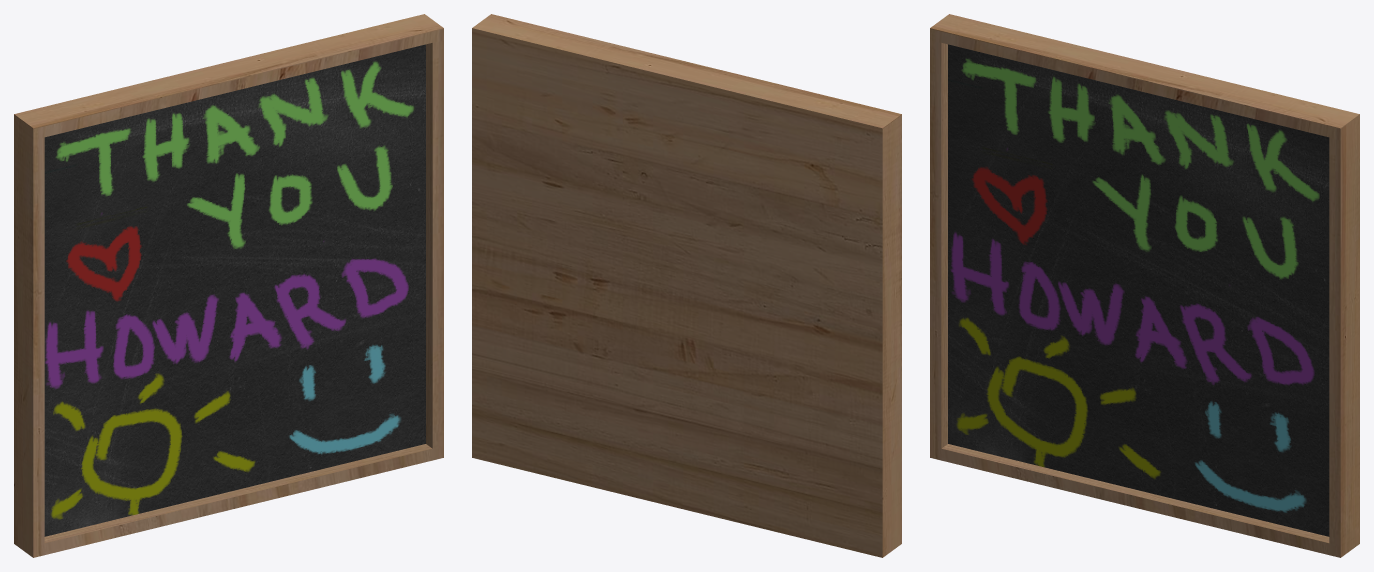
File: Chalkboard.fbx
3 views of the same model, side by side, from view 1: azimuth 30°, elevation 25°; view 2: azimuth 150°, elevation 25°; view 3: azimuth 330°, elevation 25° (orthographic).
Visible parts, largest first — view 1: polySurface2; view 2: polySurface2; view 3: polySurface2.
Part boxes in pixels (box(x1,y1,x2,y2)): polySurface2: box(14, 14, 443, 557); polySurface2: box(472, 14, 901, 557); polySurface2: box(930, 14, 1359, 557).
Bounding box in the file's own units: 13.04 × 13.04 × 1.06.
